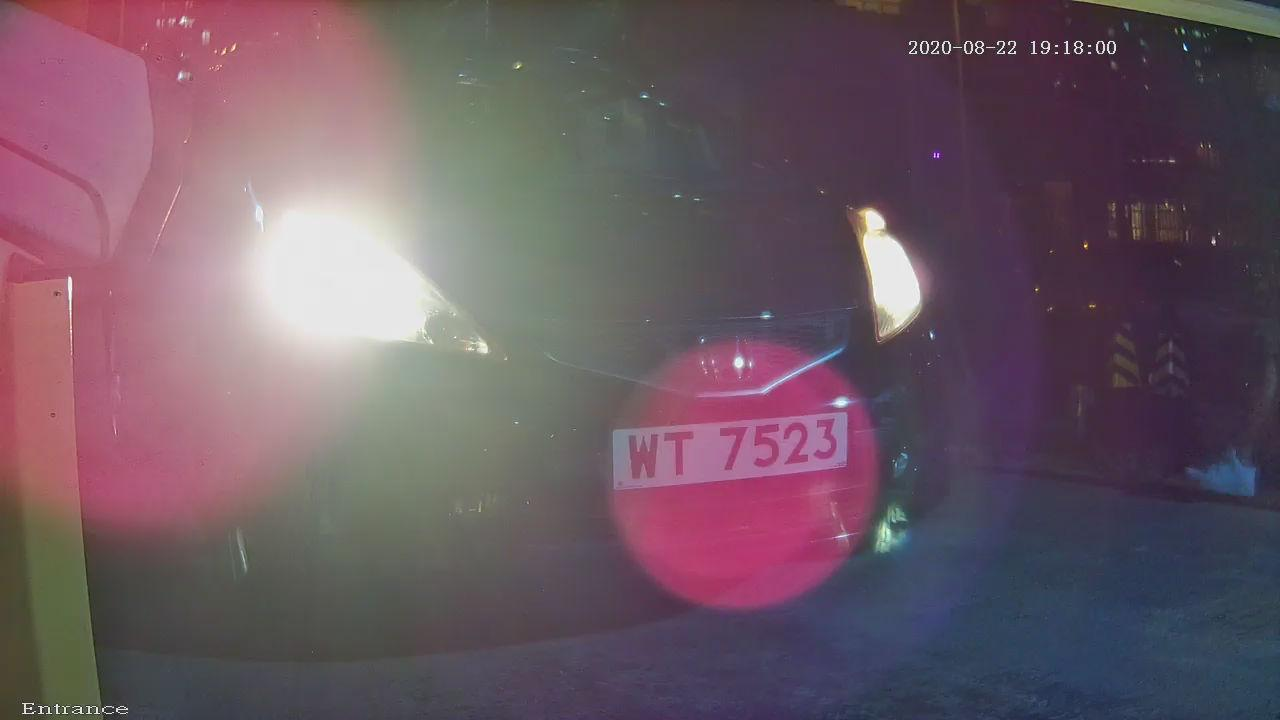Car: (69, 33, 1115, 682)
License Plate: (582, 380, 865, 512)
